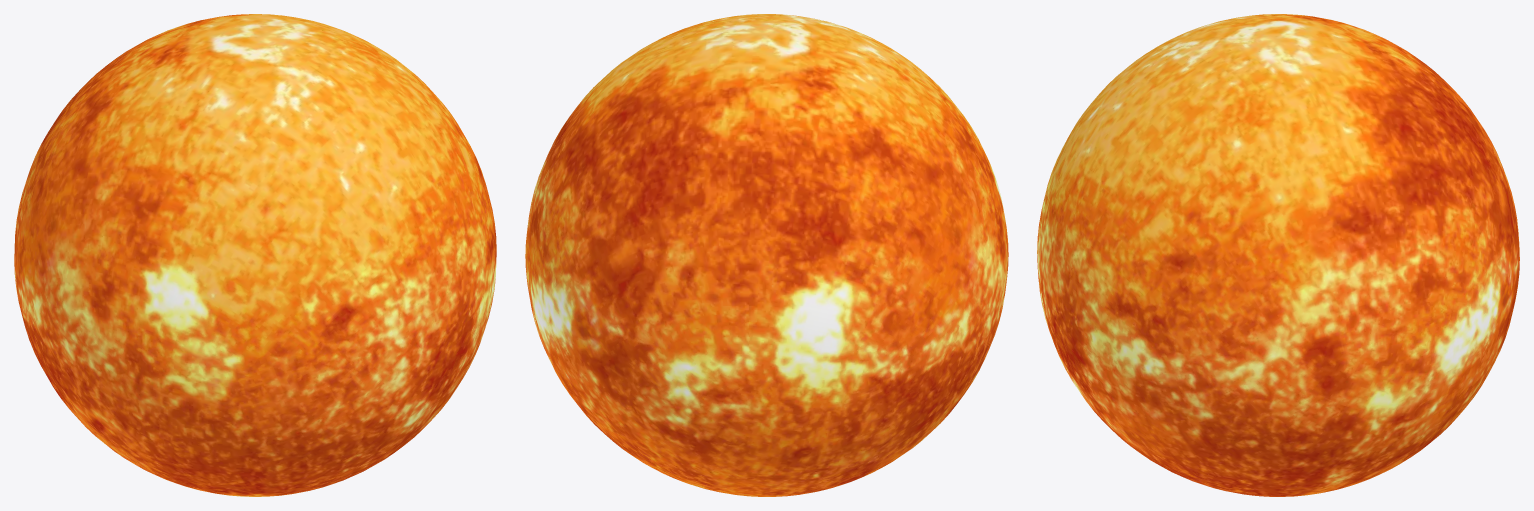
File: sun-transformed.glb
3 views of the same model, side by side, from view 1: azimuth 30°, elevation 25°; view 2: azimuth 150°, elevation 25°; view 3: azimuth 270°, elevation 25° (orthographic).
Parts seen in each view (by area): view 1: sun1; view 2: sun1; view 3: sun1.
Boxes of the visible parts, x1=… form: sun1: x1=14, y1=14, x2=496, y2=496; sun1: x1=525, y1=14, x2=1008, y2=496; sun1: x1=1037, y1=14, x2=1519, y2=496.
Bounding box in the file's own units: 1.99 × 1.99 × 1.99.
1 material, 1 textured.
